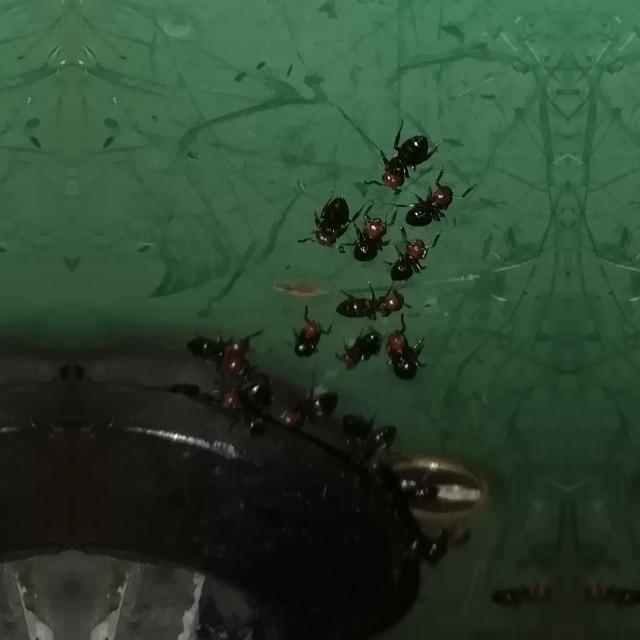Crematogaster: (304, 192, 358, 256), (381, 230, 435, 292), (338, 320, 394, 378), (335, 284, 413, 324), (416, 521, 472, 573), (407, 187, 455, 245), (265, 390, 331, 432), (376, 464, 442, 506), (389, 124, 427, 190), (376, 324, 419, 380), (585, 569, 640, 612), (494, 570, 550, 612), (217, 390, 267, 436), (218, 354, 272, 394), (348, 204, 384, 262), (187, 328, 251, 356), (296, 307, 332, 355), (340, 412, 390, 438)
